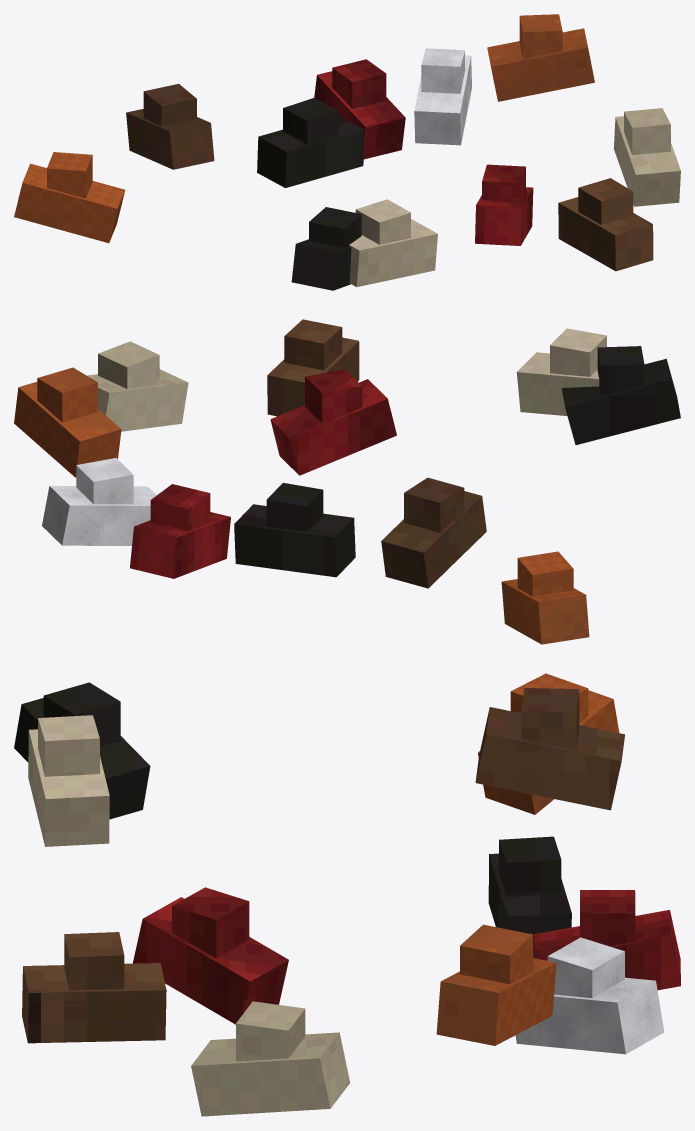
File: zapatitos.obj
3 views of the same model, one above another, from view 1: azimuth 30°, elevation 25°; view 2: azimuth 150°, elevation 25°; view 3: azimuth 270°, elevation 25° (orthographic). The views are drawn at different scales.
Parts seen in each view (by area): view 1: zapatitos; view 2: zapatitos; view 3: zapatitos.
Part boxes in pixels (<box>): zapatitos: <box>14,14,680,290</box>; zapatitos: <box>14,319,680,644</box>; zapatitos: <box>14,673,680,1116</box>.
Size of the model in its own units: 0.9786 by 0.1864 by 0.7236.
Materials: 6 (6 with a texture image).
